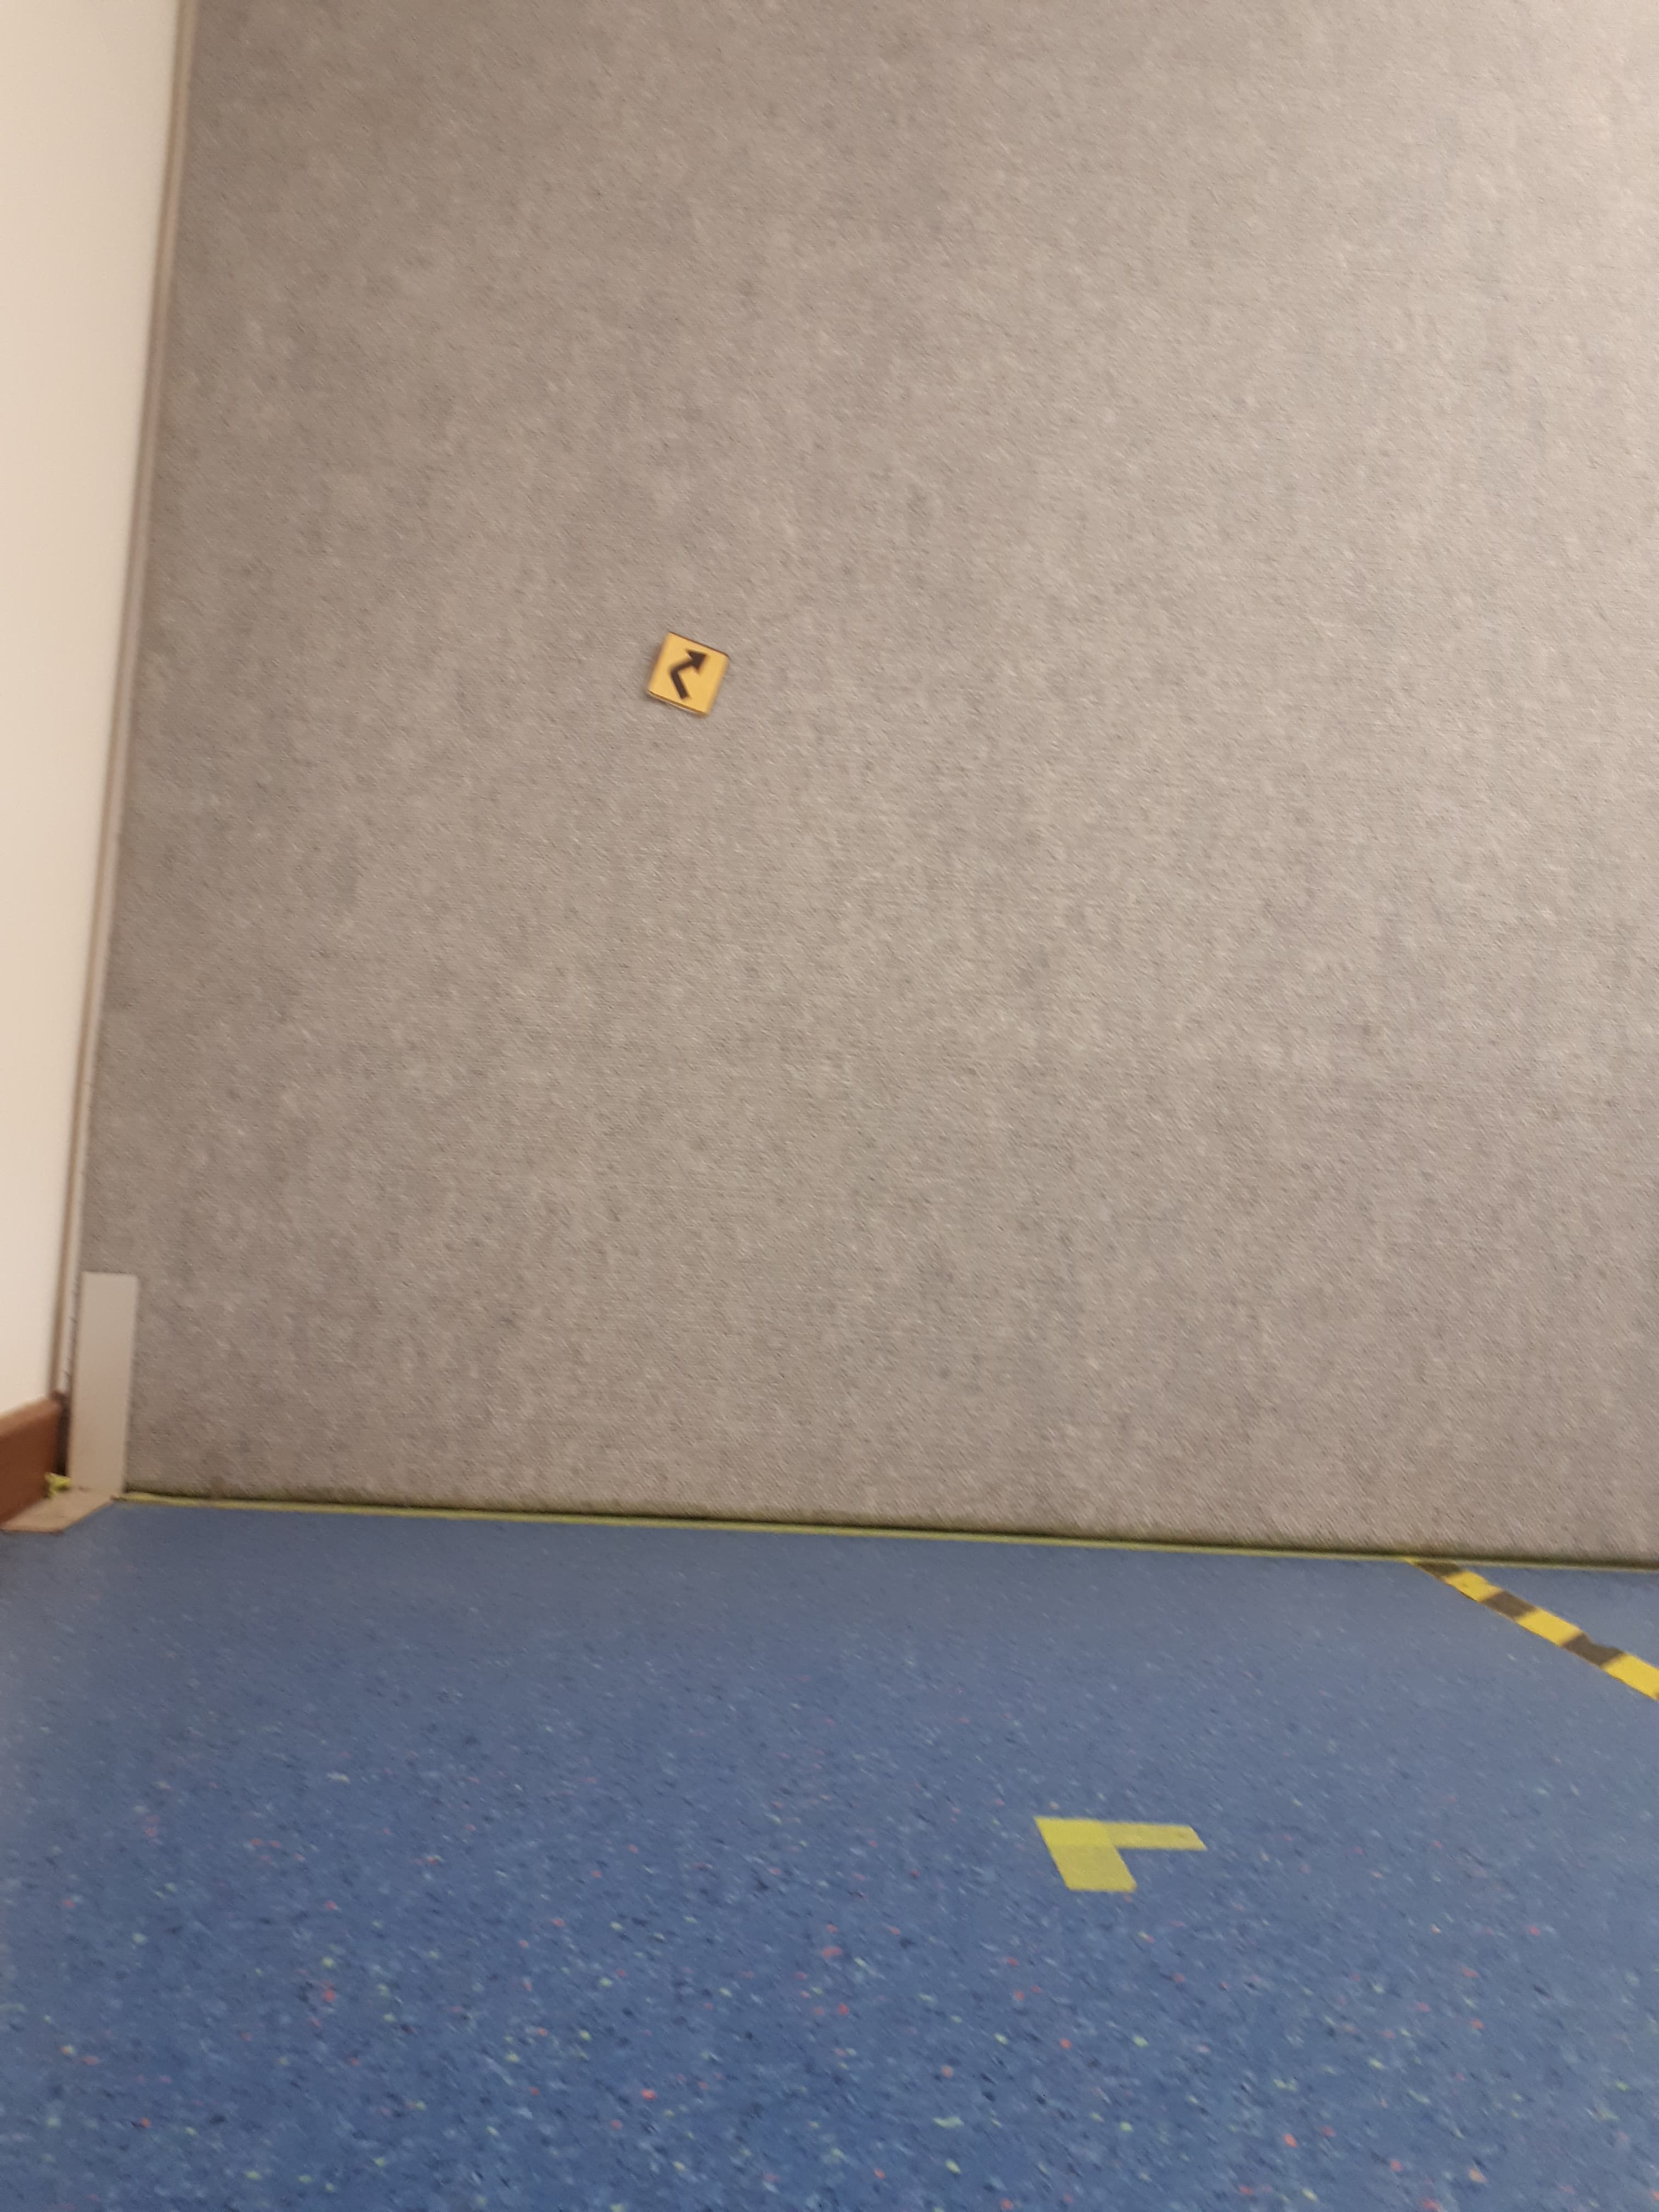right: (622, 620, 751, 733)
